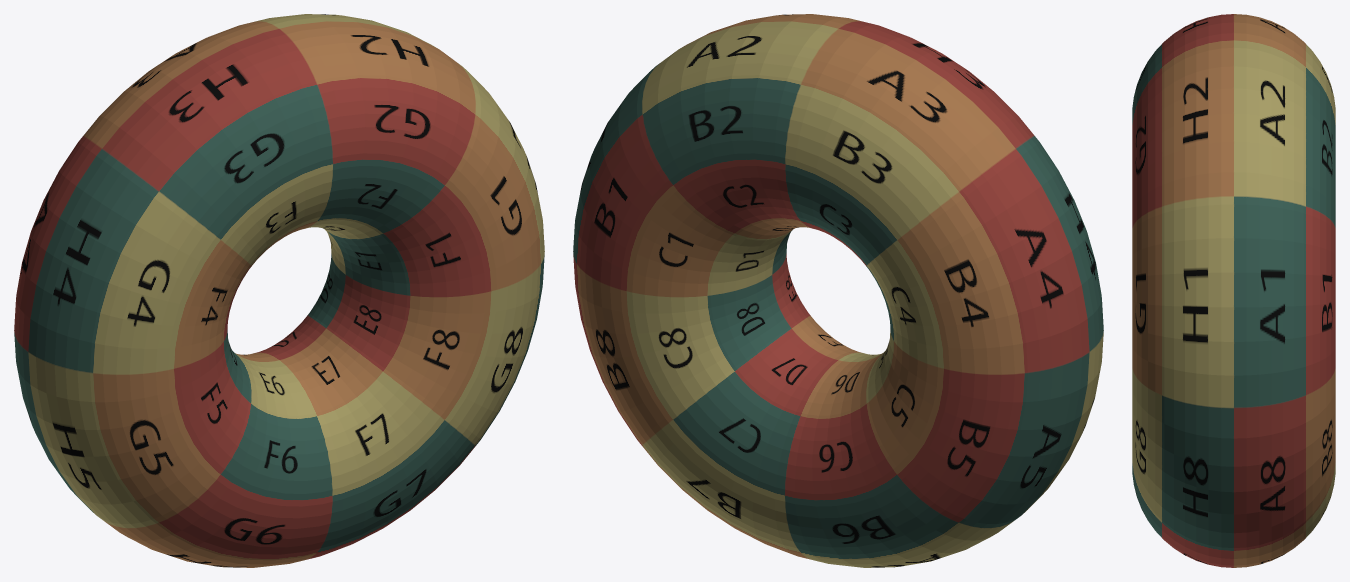
Rendered from texture_torus_R8_r26.glb.
The picture shows the model from 3 angles, left to right: view 1: azimuth 30°, elevation 25°; view 2: azimuth 150°, elevation 25°; view 3: azimuth 270°, elevation 25°; orthographic projection. The views are drawn at different scales.
Parts seen in each view (by area): view 1: world; view 2: world; view 3: world.
Part boxes in pixels (<box>): world: <box>14,14,544,567</box>; world: <box>573,14,1103,567</box>; world: <box>1132,14,1335,567</box>.
Size of the model in its own units: 24.27 by 24.22 by 8.92.
Materials: 1 (1 with a texture image).
